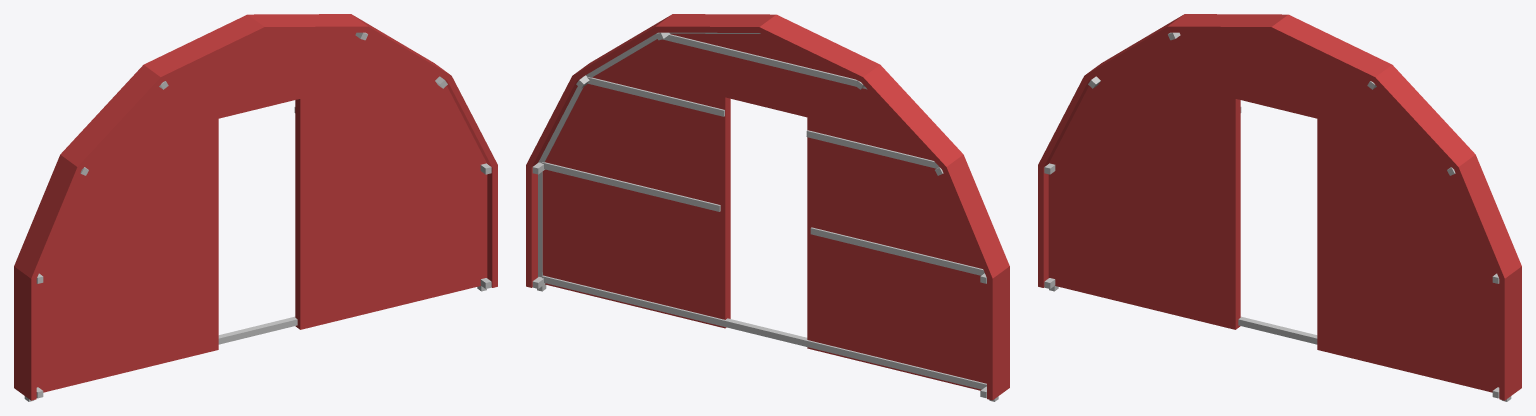
Rendered from SM_medium_greenhouse.fbx.
3 views of the same model, side by side, from view 1: azimuth 30°, elevation 25°; view 2: azimuth 150°, elevation 25°; view 3: azimuth 330°, elevation 25° (orthographic).
Visible parts, largest first — view 1: Boole; view 2: Boole; view 3: Boole.
Boxes of the visible parts, x1,y1,x2,y2 form: Boole: [14, 14, 497, 401]; Boole: [526, 14, 1009, 401]; Boole: [1038, 14, 1521, 401].
Size of the model in its own units: 399 by 265 by 25.4.
